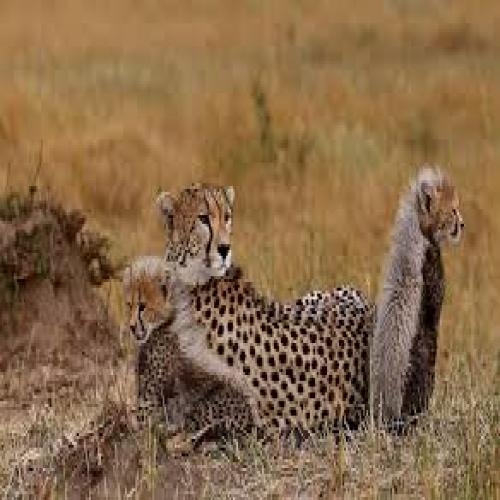cheetah-endangered: (149, 177, 375, 438), (368, 162, 467, 433), (121, 258, 254, 458)
